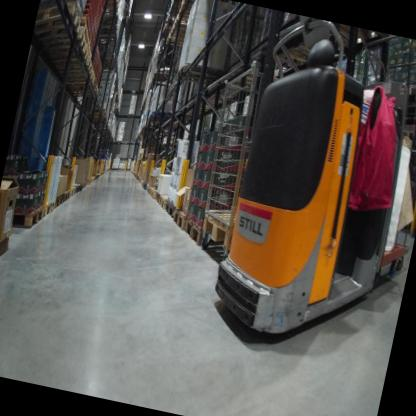pallet: (33, 14, 92, 77), (35, 0, 90, 55), (194, 205, 245, 258), (1, 195, 46, 238), (55, 49, 97, 88), (174, 60, 224, 90), (57, 61, 98, 96), (58, 35, 92, 70), (58, 77, 99, 104), (181, 214, 209, 250), (36, 192, 57, 227), (170, 203, 191, 236), (162, 29, 193, 51), (81, 103, 113, 124), (148, 106, 176, 125), (179, 0, 210, 13), (100, 0, 121, 18), (165, 196, 180, 220), (48, 191, 64, 212), (57, 184, 71, 208), (153, 183, 167, 206), (63, 184, 75, 202), (69, 181, 81, 199), (157, 193, 168, 212), (149, 186, 158, 204), (145, 181, 154, 196)
pallet_truck: (197, 10, 416, 357)
